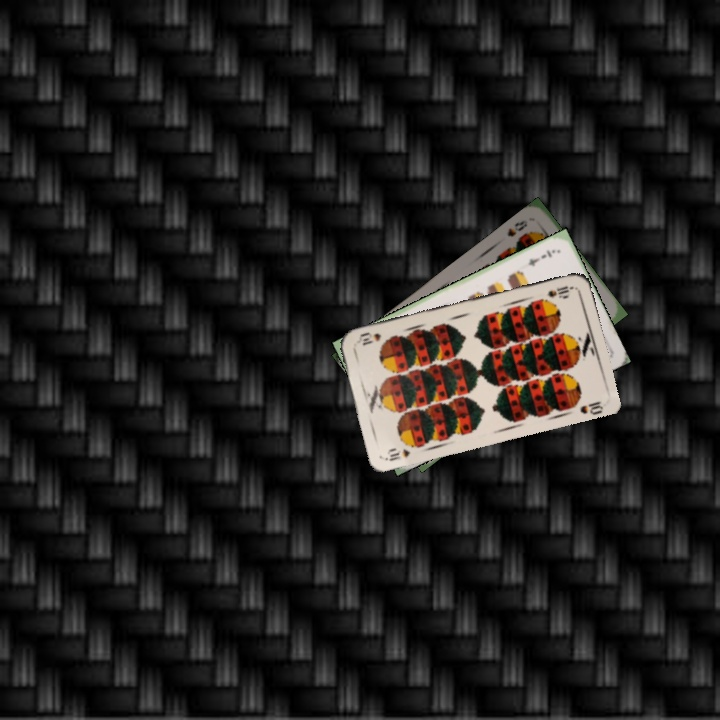E7: (524, 245, 558, 269)
S10: (543, 282, 576, 301), (382, 444, 413, 464)
S8: (503, 216, 530, 239)
